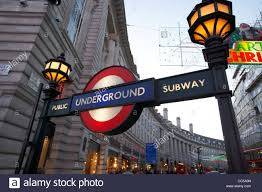London Underground: (74, 66, 153, 130)
